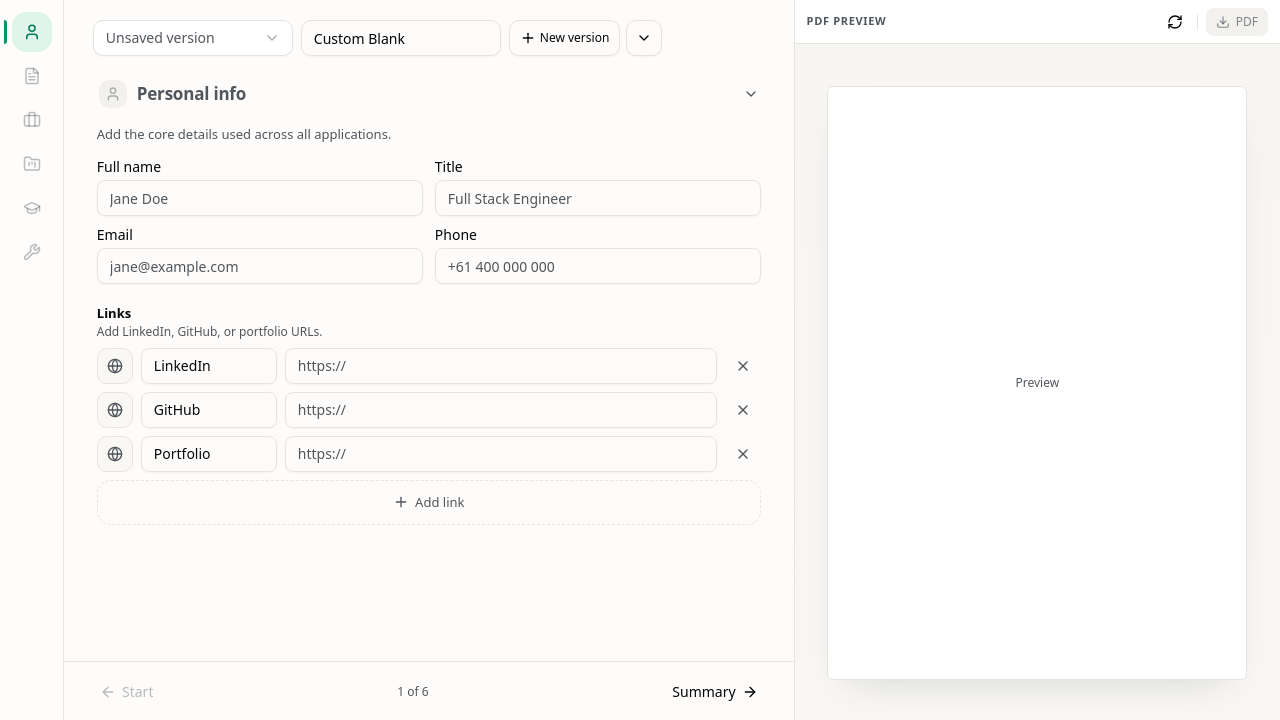
Test: Resume page › scrolls to a section from the rail instead of swapping the canvas
Check: the heading "Personal info" is shown, box x1=137 y1=82 x2=246 y2=105
What coordinates should you click on to do the following:
click the button named "Summary — Not filled in yet"
I would click on:
 (32, 76)
Its box is x1=12 y1=56 x2=52 y2=96.
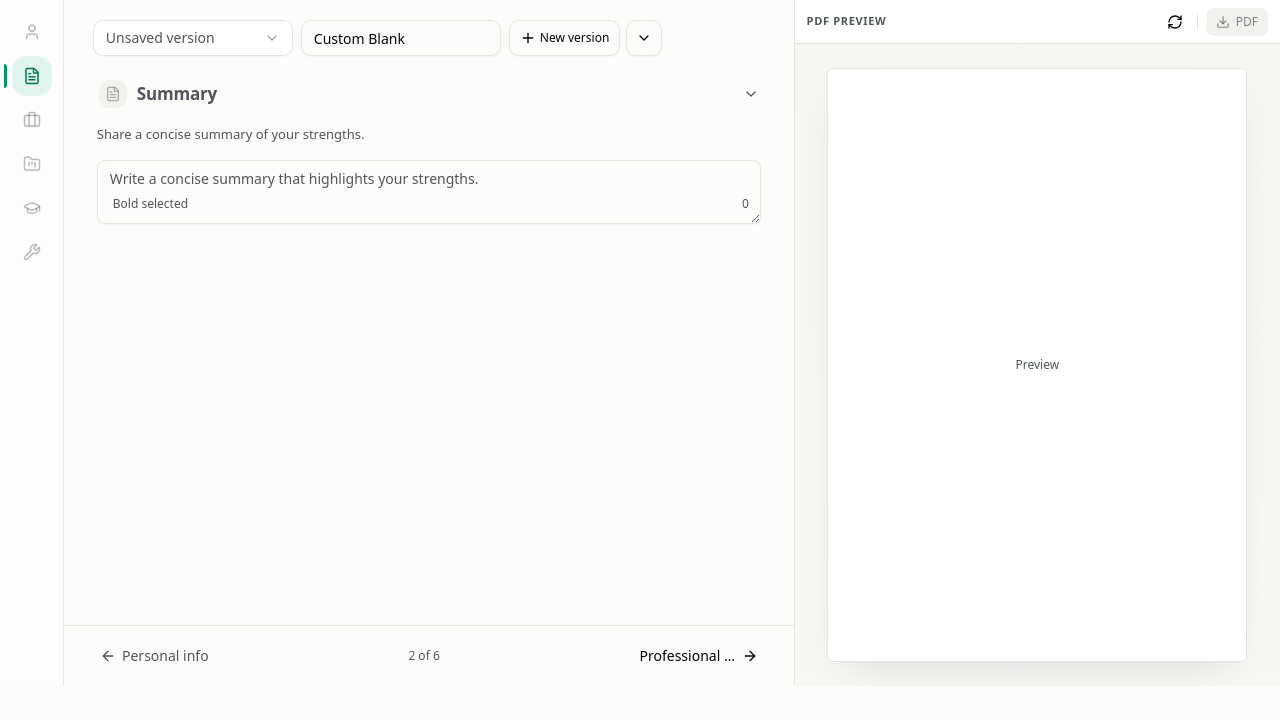
Check: the text box labelled "summary" is shown, box x1=97 y1=160 x2=761 y2=224
